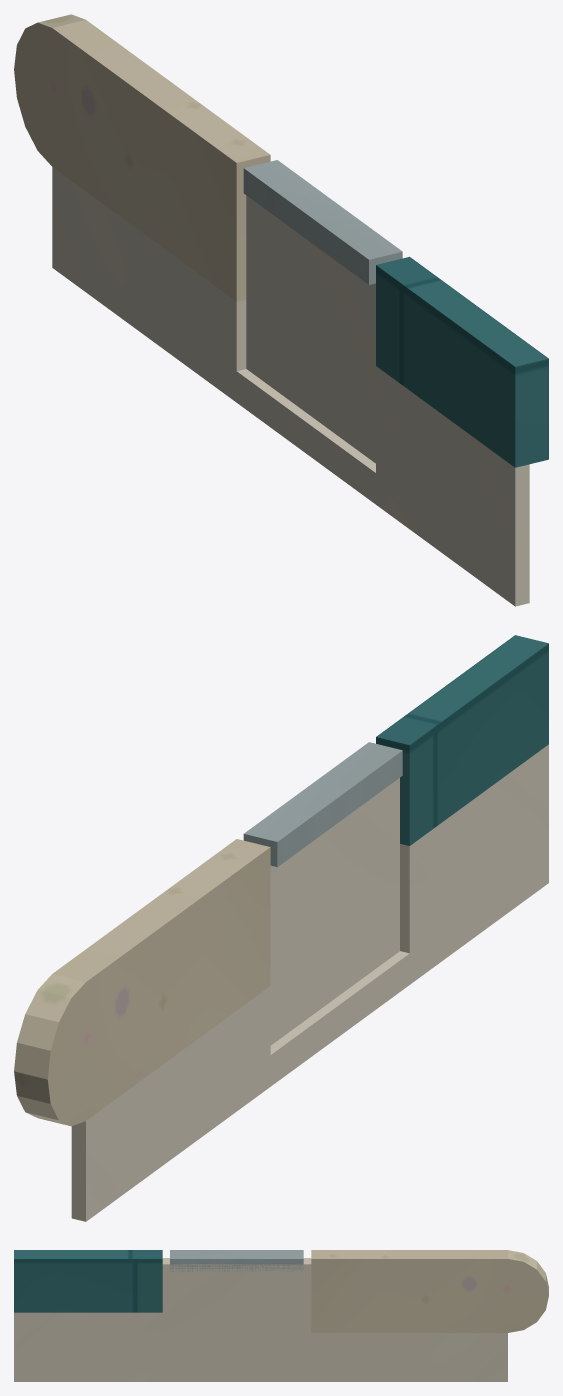
The model's file is AST-AQU-003_START.glb.
3 views of the same model, one above another, from view 1: azimuth 30°, elevation 25°; view 2: azimuth 150°, elevation 25°; view 3: azimuth 270°, elevation 25° (orthographic). The views are drawn at different scales.
Parts seen in each view (by area): view 1: AST-AQU-003_START__ivory_enamel, AST-AQU-003_START__warm_stone, AST-AQU-003_START__aquatic_edge_tile, AST-AQU-003_START__aquatic_satin_alloy; view 2: AST-AQU-003_START__ivory_enamel, AST-AQU-003_START__warm_stone, AST-AQU-003_START__aquatic_edge_tile, AST-AQU-003_START__aquatic_satin_alloy; view 3: AST-AQU-003_START__ivory_enamel, AST-AQU-003_START__warm_stone, AST-AQU-003_START__aquatic_edge_tile, AST-AQU-003_START__aquatic_satin_alloy.
Boxes of the visible parts, x1,y1,x2,y2 form: AST-AQU-003_START__ivory_enamel: (52,167,529,606); AST-AQU-003_START__warm_stone: (14,14,270,301); AST-AQU-003_START__aquatic_edge_tile: (376,256,548,467); AST-AQU-003_START__aquatic_satin_alloy: (243,160,402,284); AST-AQU-003_START__ivory_enamel: (71,744,548,1221); AST-AQU-003_START__warm_stone: (14,839,270,1126); AST-AQU-003_START__aquatic_edge_tile: (376,635,548,845); AST-AQU-003_START__aquatic_satin_alloy: (243,742,402,867); AST-AQU-003_START__ivory_enamel: (14,1258,507,1381); AST-AQU-003_START__warm_stone: (311,1250,548,1332); AST-AQU-003_START__aquatic_edge_tile: (14,1250,162,1312); AST-AQU-003_START__aquatic_satin_alloy: (170,1250,303,1272).
Bounding box in the file's own units: 0.028 × 0.19 × 0.72.
Materials: 4 (4 with a texture image).
